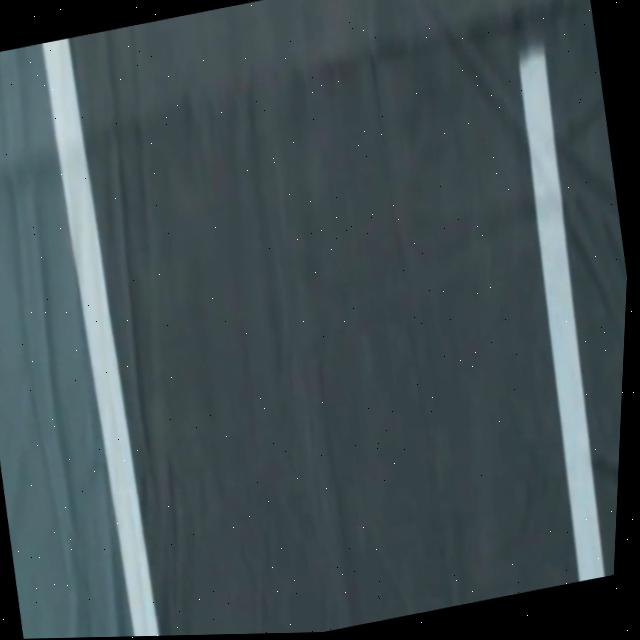center: (518, 43, 605, 581)
left: (41, 38, 157, 636)
